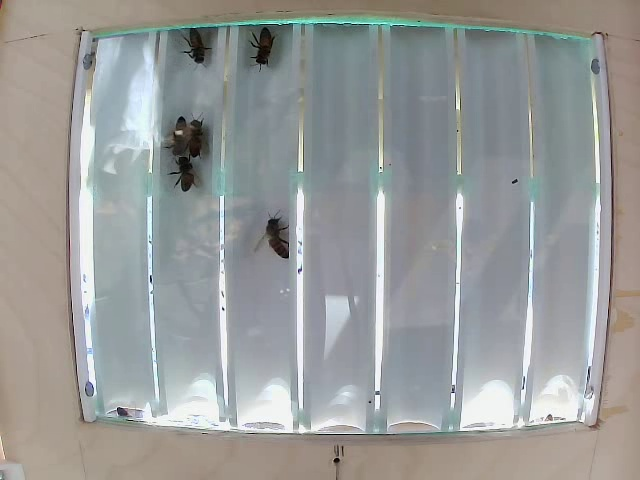bee: (256, 216, 294, 270), (164, 114, 201, 160), (253, 20, 289, 66), (177, 33, 216, 69), (169, 162, 202, 193), (183, 131, 213, 163)
